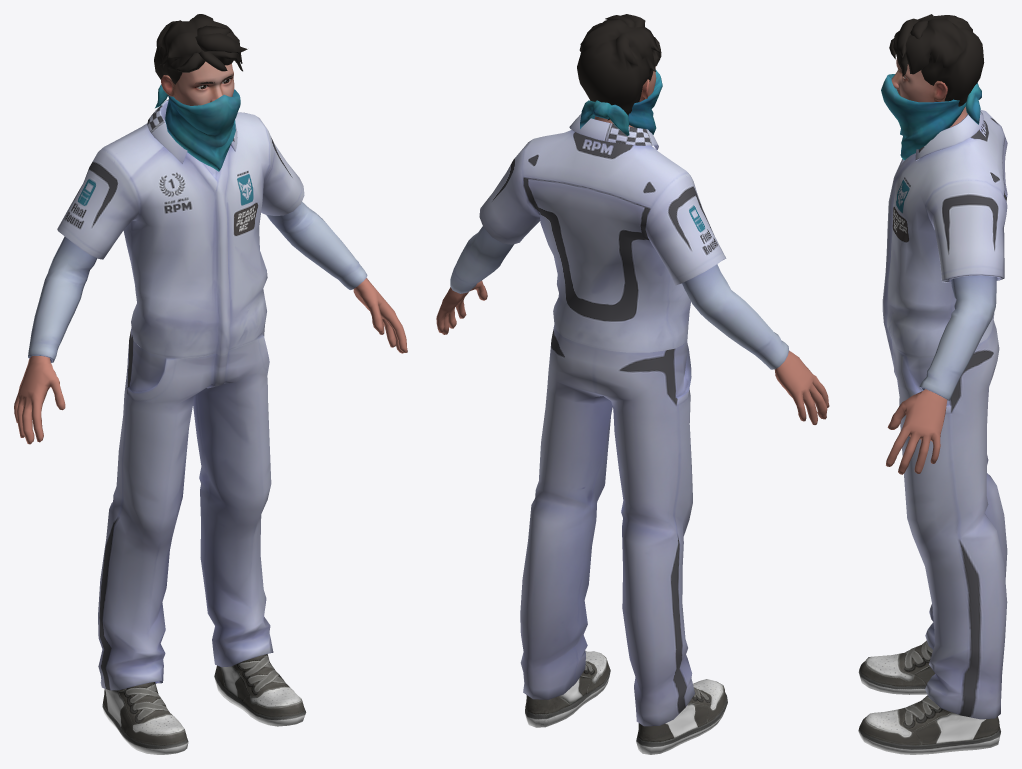
File: 96faed72-2442-4ec0-8e39-1332e0e2974c (1).fbx
The picture shows the model from 3 angles, left to right: view 1: azimuth 30°, elevation 25°; view 2: azimuth 150°, elevation 25°; view 3: azimuth 270°, elevation 25°; orthographic projection.
Parts seen in each view (by area): view 1: Wolf3D_Avatar; view 2: Wolf3D_Avatar; view 3: Wolf3D_Avatar.
Boxes of the visible parts, x1,y1,x2,y2 form: Wolf3D_Avatar: [14, 14, 407, 754]; Wolf3D_Avatar: [436, 14, 829, 754]; Wolf3D_Avatar: [858, 14, 1007, 754].
Bounding box in the file's own units: 1.06 × 1.86 × 0.3608.
Materials: 1 (1 with a texture image).
